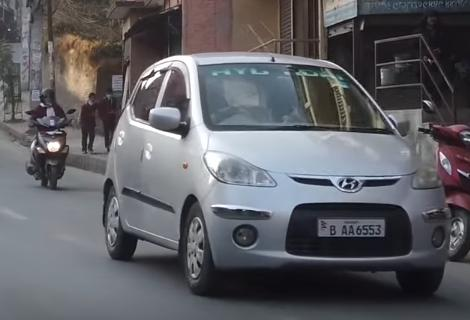car: (101, 45, 453, 309)
scooter: (417, 112, 470, 265), (26, 109, 71, 191)
